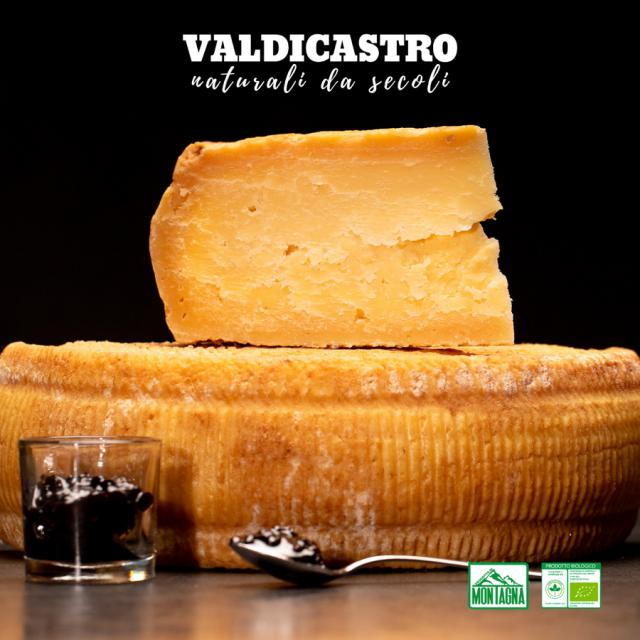Cheese: (2, 308, 640, 562), (148, 113, 520, 367)
